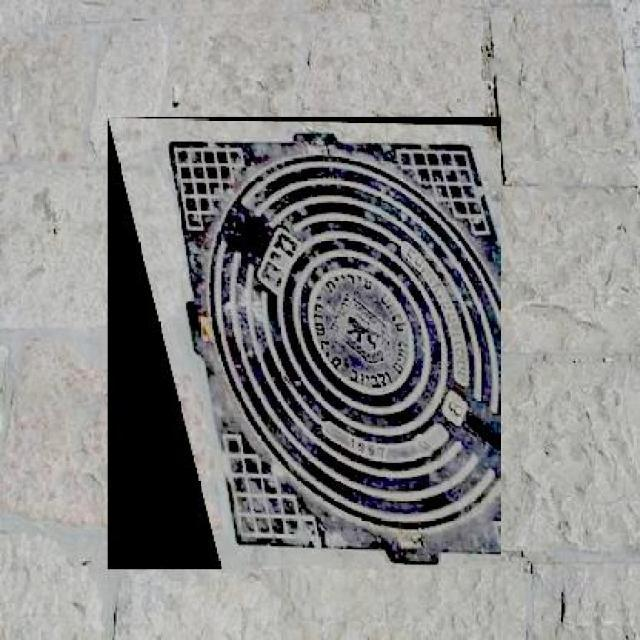Manhole: (108, 116, 500, 570)
